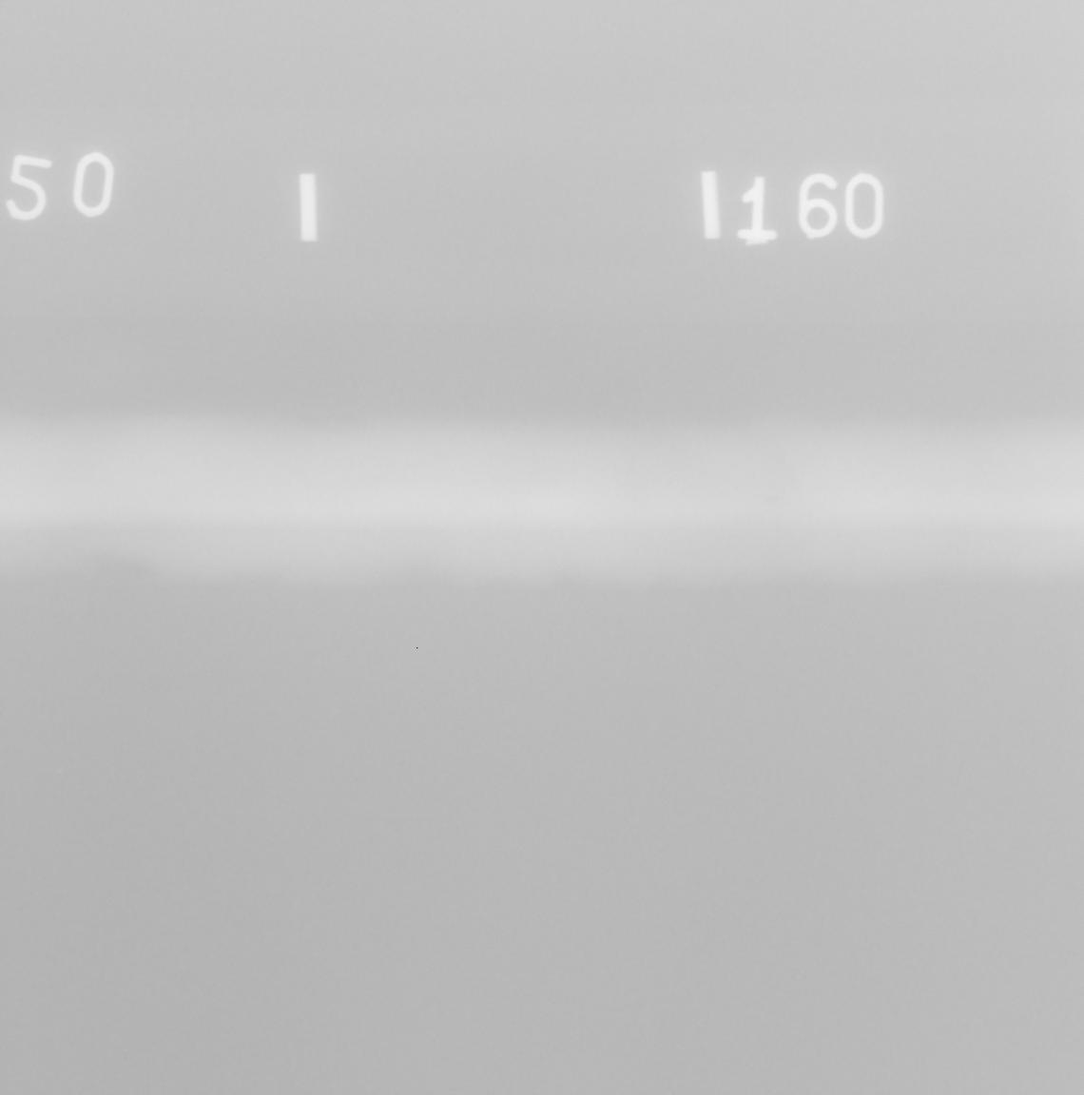Inclusion: (761, 495, 779, 504)
